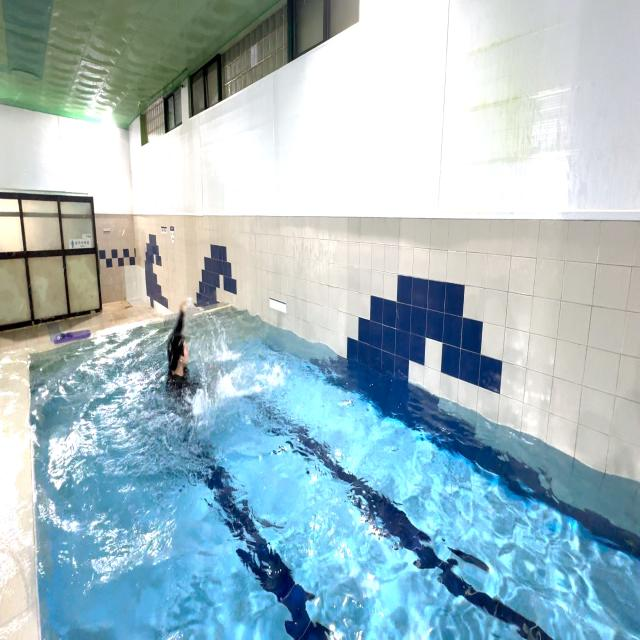Drowning: (160, 286, 218, 428)
